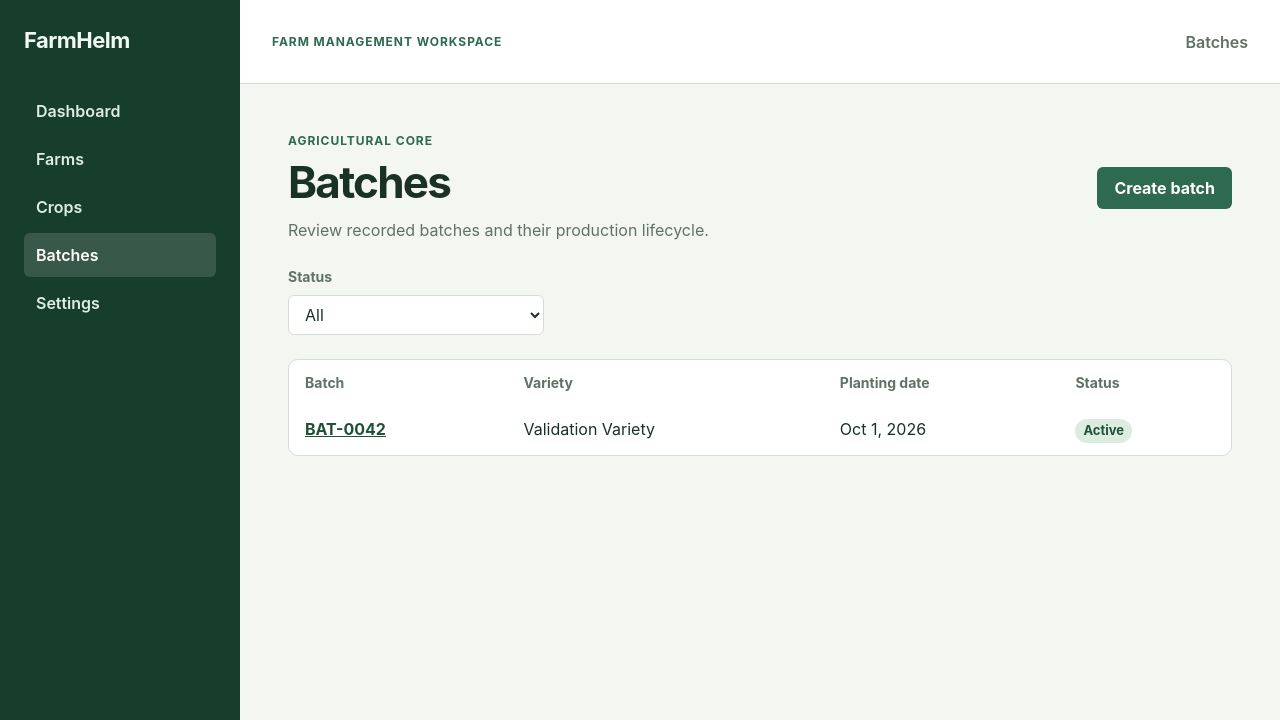
Test: BatchesPage › navigates from a batch list link to batch details
Click the link "BAT-0042". click: click(345, 429)
box: [305,419,386,439]
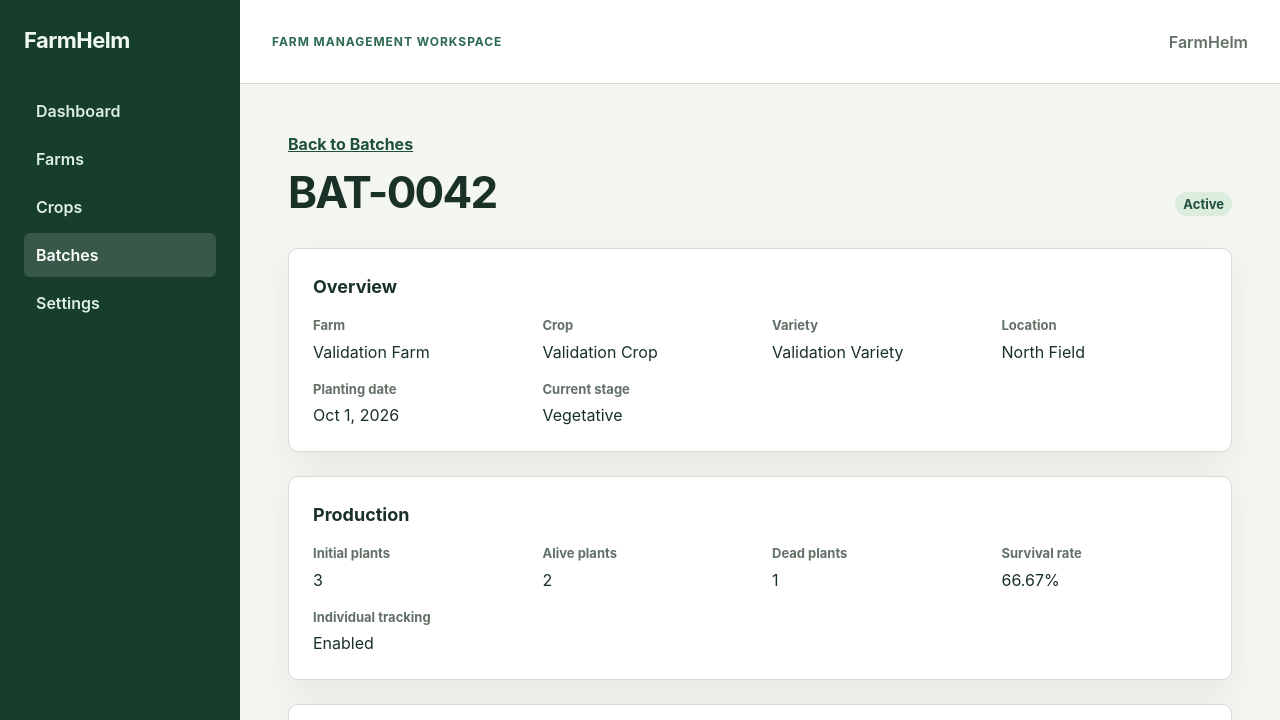
Check: the heading "BAT-0042" is shown, box [288,168,496,216]
